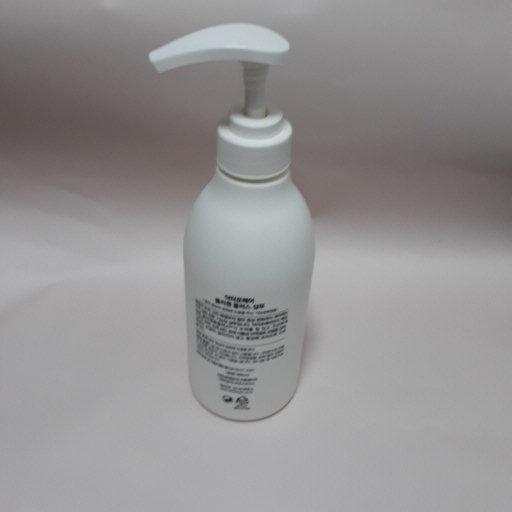Plastic_3: (145, 23, 318, 421)
